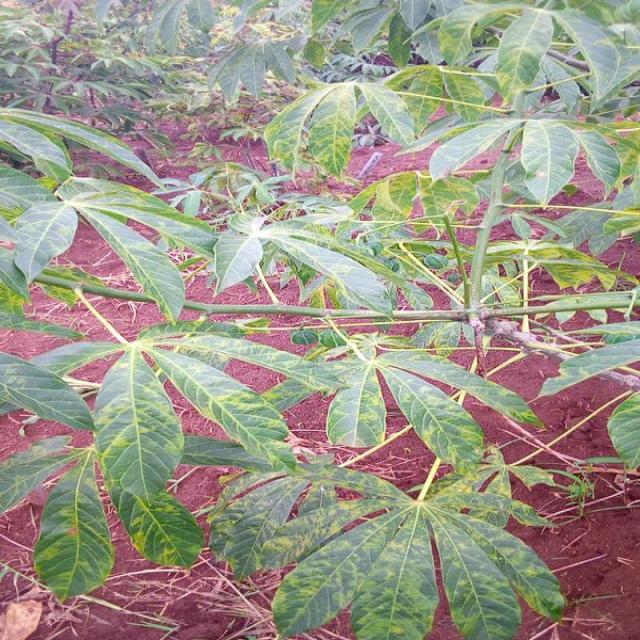cassava leaf: (1, 1, 638, 637), (92, 348, 184, 506), (32, 453, 114, 604)
